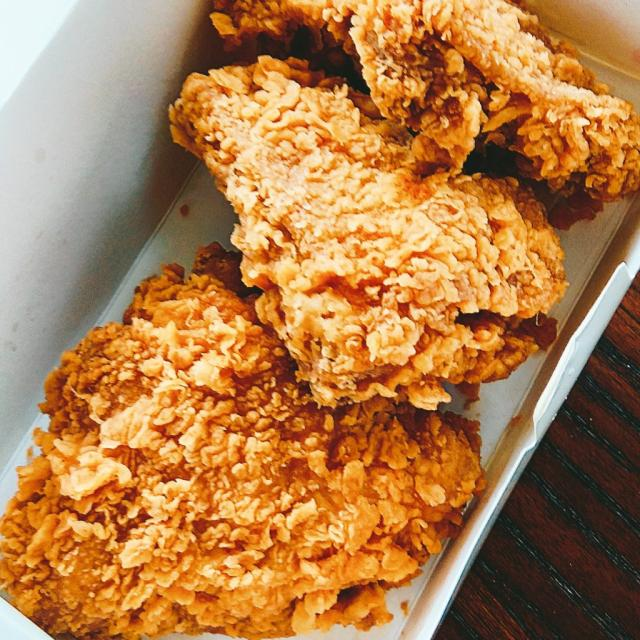Frango: (7, 259, 484, 632), (169, 54, 569, 410)
